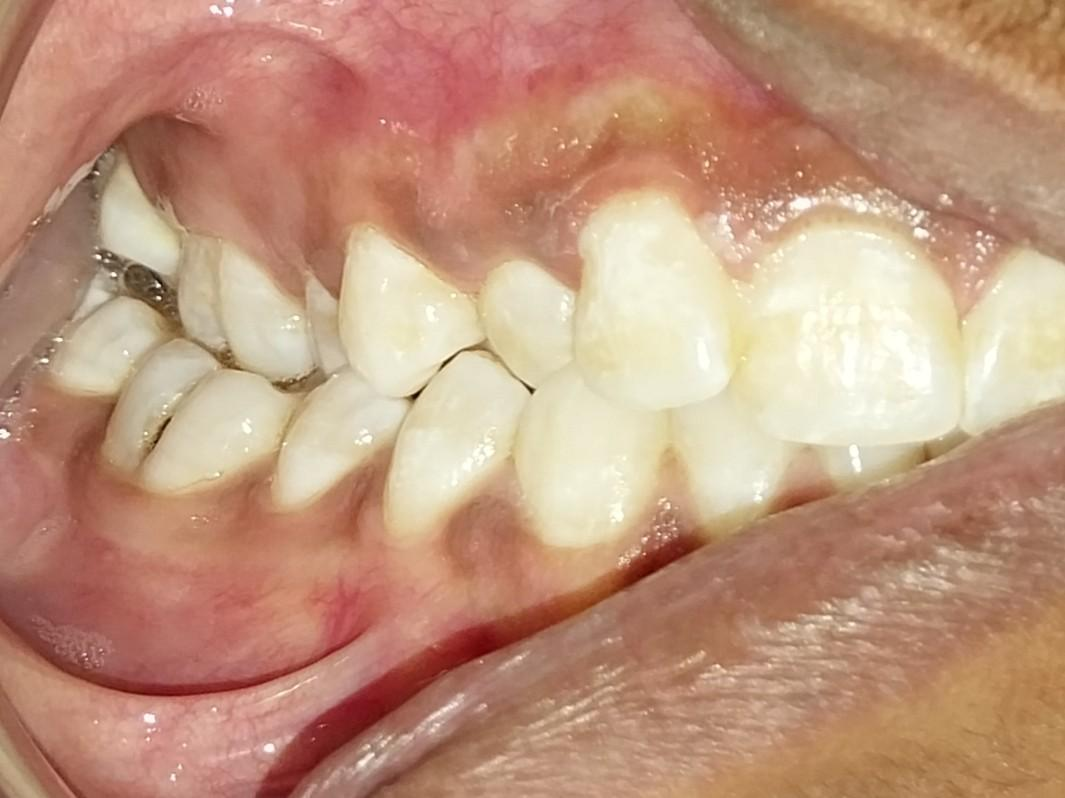D: (105, 337, 287, 485)
